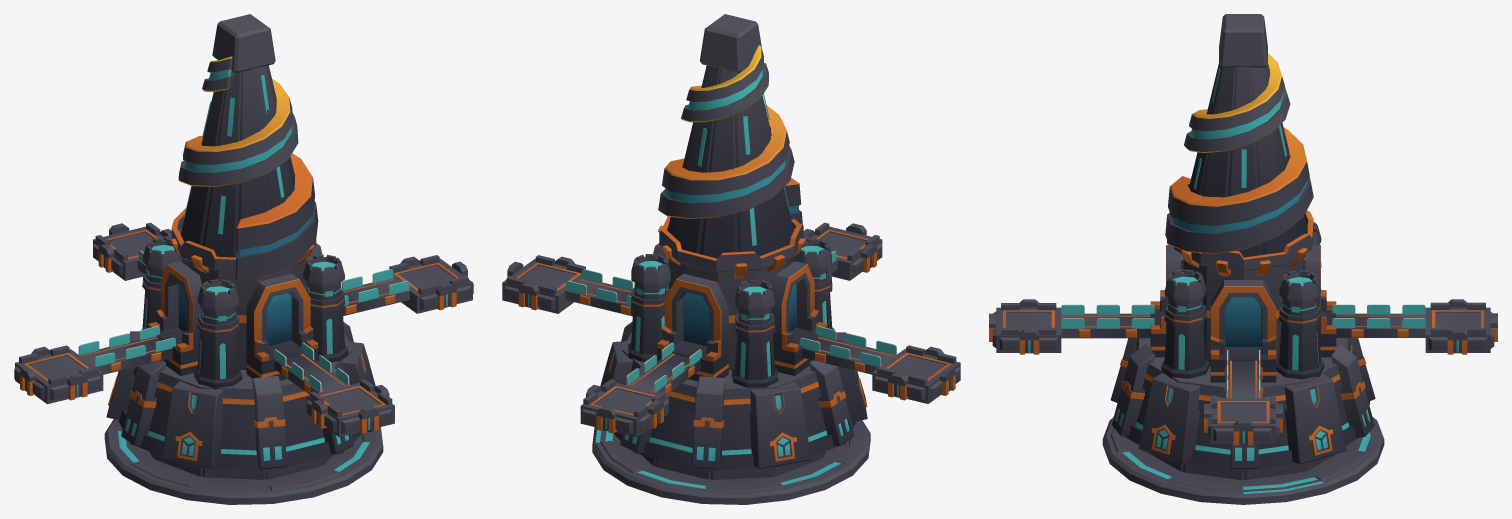
Rendered from Futuristic_building.fbx.
3 renders of one model, left to right at view 1: azimuth 30°, elevation 25°; view 2: azimuth 150°, elevation 25°; view 3: azimuth 270°, elevation 25°, orthographic.
Parts seen in each view (by area): view 1: Future_building; view 2: Future_building; view 3: Future_building.
Part boxes in pixels (x1=…): Future_building: x1=14, y1=14, x2=473, y2=504; Future_building: x1=502, y1=14, x2=960, y2=504; Future_building: x1=989, y1=14, x2=1497, y2=504.
Bounding box in the file's own units: 346 × 319 × 346.
Materials: 1 (1 with a texture image).
